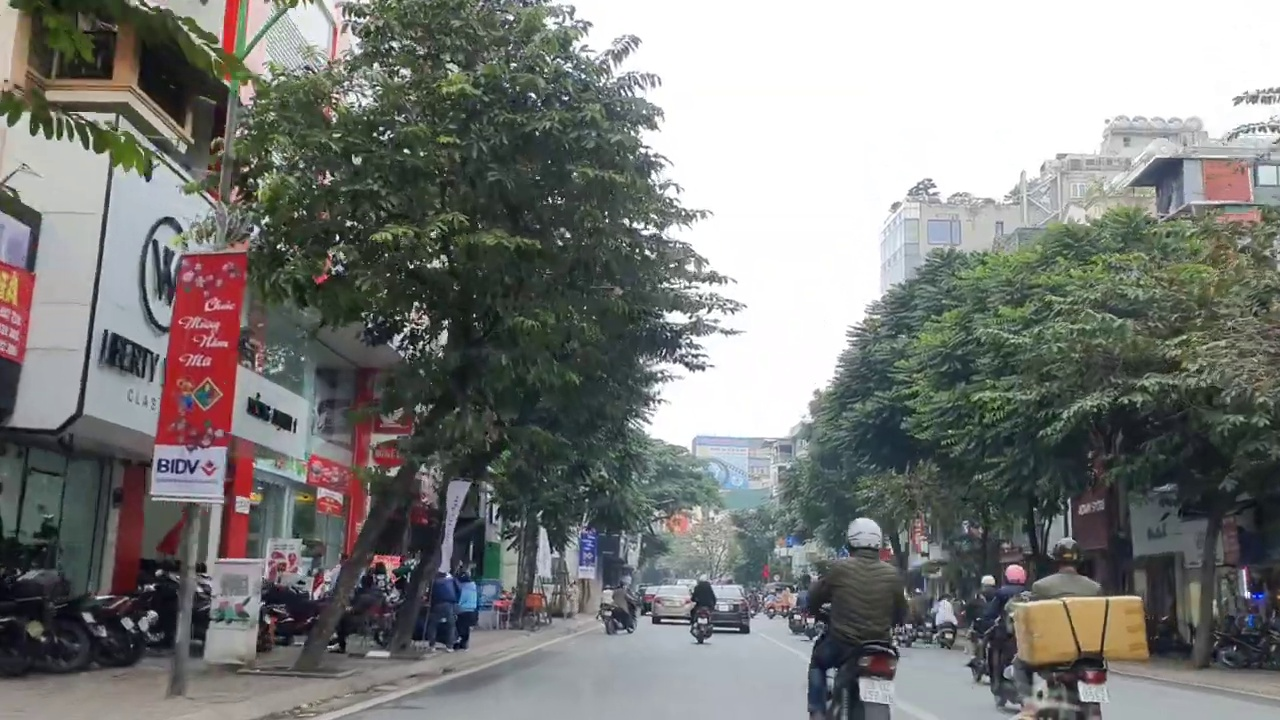person: (856, 675, 897, 706), (1078, 671, 1110, 705)
